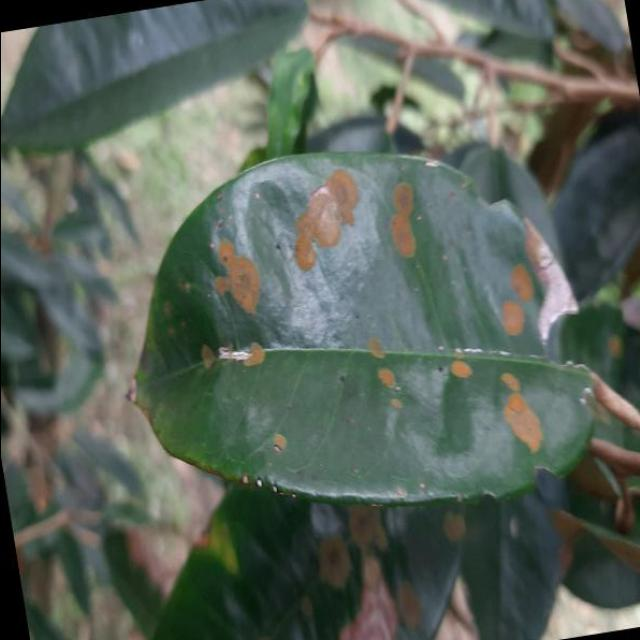Algal Leaf Spot: (79, 106, 616, 545)
